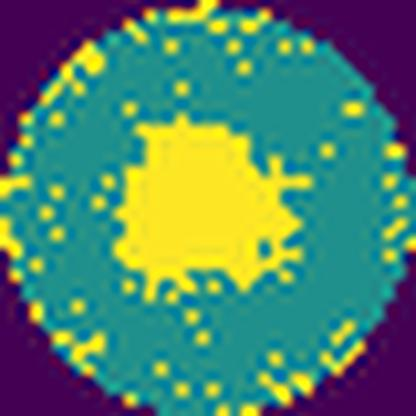Center: (111, 113, 314, 302)
